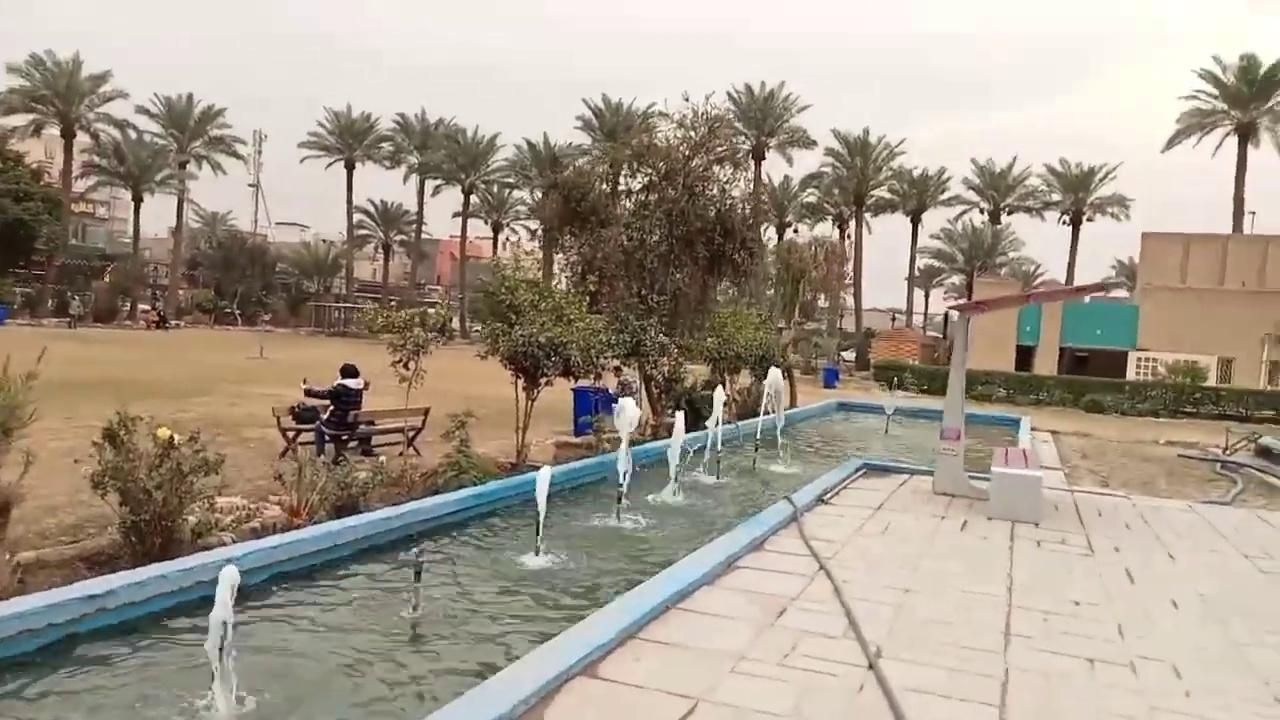fountain: (1, 374, 1042, 718), (194, 563, 257, 716), (514, 463, 567, 568), (647, 409, 696, 505), (609, 395, 642, 521), (751, 364, 790, 467), (701, 383, 728, 479)
person: (300, 362, 369, 462), (611, 364, 634, 396), (66, 293, 83, 329), (889, 311, 896, 329)
tree: (626, 89, 748, 339), (0, 46, 128, 257), (133, 90, 247, 320), (74, 407, 228, 566), (472, 267, 594, 465), (813, 125, 907, 369), (718, 78, 816, 311), (74, 120, 183, 321), (1160, 50, 1279, 233), (296, 100, 392, 317), (413, 123, 508, 338), (571, 91, 662, 313), (353, 300, 453, 455), (380, 105, 456, 303), (1025, 155, 1134, 287), (503, 130, 586, 289), (878, 163, 952, 330), (0, 132, 67, 311), (945, 153, 1039, 279), (795, 171, 855, 363), (720, 78, 816, 194), (770, 234, 850, 372), (689, 304, 779, 423), (604, 309, 679, 437), (753, 170, 812, 325), (0, 344, 47, 538), (917, 216, 1018, 302), (195, 231, 280, 325), (349, 196, 419, 308), (451, 179, 531, 260), (283, 237, 345, 327), (184, 199, 237, 295), (769, 236, 814, 327), (757, 171, 805, 244), (903, 260, 948, 334), (186, 201, 237, 251), (1101, 254, 1138, 298), (1003, 255, 1046, 291)
